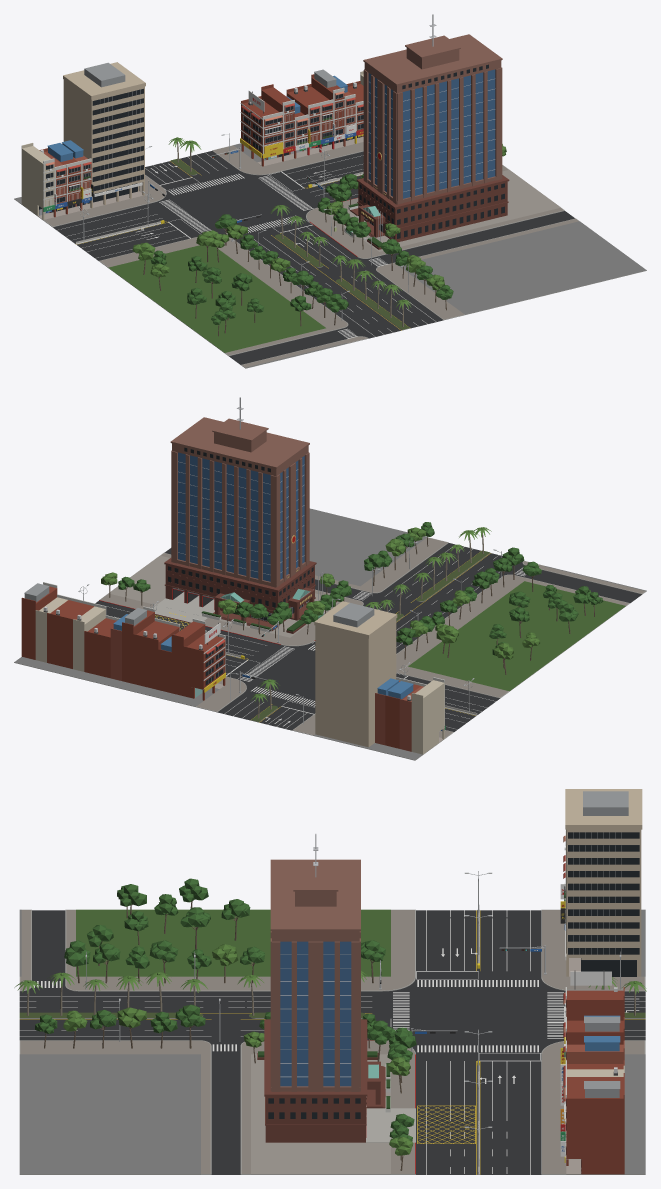
File: xinyi-street.glb
3 renders of one model, top to bottom at view 1: azimuth 30°, elevation 25°; view 2: azimuth 150°, elevation 25°; view 3: azimuth 270°, elevation 25°, orthographic. The views are drawn at different scales.
Visible parts, largest first — view 1: Road surface, HQ tower granite, Plot SE south, Plot SW park, Office NW corner, HQ tower curtain wall, HQ podium granite, Sidewalk SW park, Road markings white, Shophouse NE 01, Sidewalk SE south, Plot SE fire HQ (+17 smaller); view 2: Road surface, HQ tower granite, Plot SW park, Office NW corner, HQ tower curtain wall, Plot SE south, HQ podium granite, Sidewalk SW park, Shophouse NE 01, Shophouse NW 01, Sidewalk SE fire HQ, Plot SE fire HQ (+25 smaller); view 3: Road surface, Plot SE south, HQ tower granite, Office NW corner, Plot SW park, HQ tower curtain wall, HQ podium granite, Plot SE fire HQ, Shophouse NE 14, Sidewalk SW park, Road markings white, Sidewalk SE south (+15 smaller).
Part boxes in pixels (bbox=[...]): Road surface: bbox=[53, 151, 574, 364]; HQ tower granite: bbox=[363, 34, 502, 204]; Plot SE south: bbox=[399, 221, 646, 314]; Plot SW park: bbox=[108, 245, 325, 352]; Office NW corner: bbox=[63, 62, 145, 208]; HQ tower curtain wall: bbox=[368, 69, 495, 198]; HQ podium granite: bbox=[344, 175, 509, 249]; Sidewalk SW park: bbox=[99, 237, 347, 356]; Road markings white: bbox=[57, 152, 436, 338]; Shophouse NE 01: bbox=[240, 90, 283, 166]; Sidewalk SE south: bbox=[376, 218, 646, 320]; Plot SE fire HQ: bbox=[328, 169, 560, 251]; Road surface: bbox=[95, 543, 641, 731]; HQ tower granite: bbox=[170, 417, 309, 587]; Plot SW park: bbox=[408, 581, 625, 691]; Office NW corner: bbox=[314, 601, 397, 747]; HQ tower curtain wall: bbox=[178, 452, 304, 581]; Plot SE south: bbox=[309, 508, 426, 586]; HQ podium granite: bbox=[164, 558, 337, 633]; Sidewalk SW park: bbox=[396, 575, 629, 698]; Shophouse NE 01: bbox=[183, 622, 225, 700]; Shophouse NW 01: bbox=[411, 677, 445, 754]; Sidewalk SE fire HQ: bbox=[99, 553, 363, 646]; Plot SE fire HQ: bbox=[108, 555, 338, 637]; Road surface: bbox=[19, 910, 645, 1174]; Plot SE south: bbox=[19, 1054, 200, 1174]; HQ tower granite: bbox=[270, 859, 360, 1091]; Office NW corner: bbox=[565, 789, 642, 976]; Plot SW park: bbox=[76, 909, 390, 976]; HQ tower curtain wall: bbox=[280, 941, 351, 1086]; HQ podium granite: bbox=[257, 1019, 385, 1142]; Plot SE fire HQ: bbox=[251, 1054, 390, 1174]; Shophouse NE 14: bbox=[560, 1081, 624, 1174]; Sidewalk SW park: bbox=[65, 910, 415, 991]; Road markings white: bbox=[20, 910, 645, 1174]; Sidewalk SE south: bbox=[19, 1040, 211, 1174].
Bounding box in the file's own units: 151 × 71.97 × 152.
